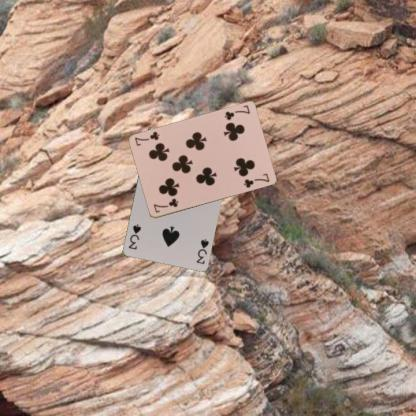3s: (194, 236, 210, 266)
7c: (222, 103, 251, 122), (150, 196, 180, 214)
